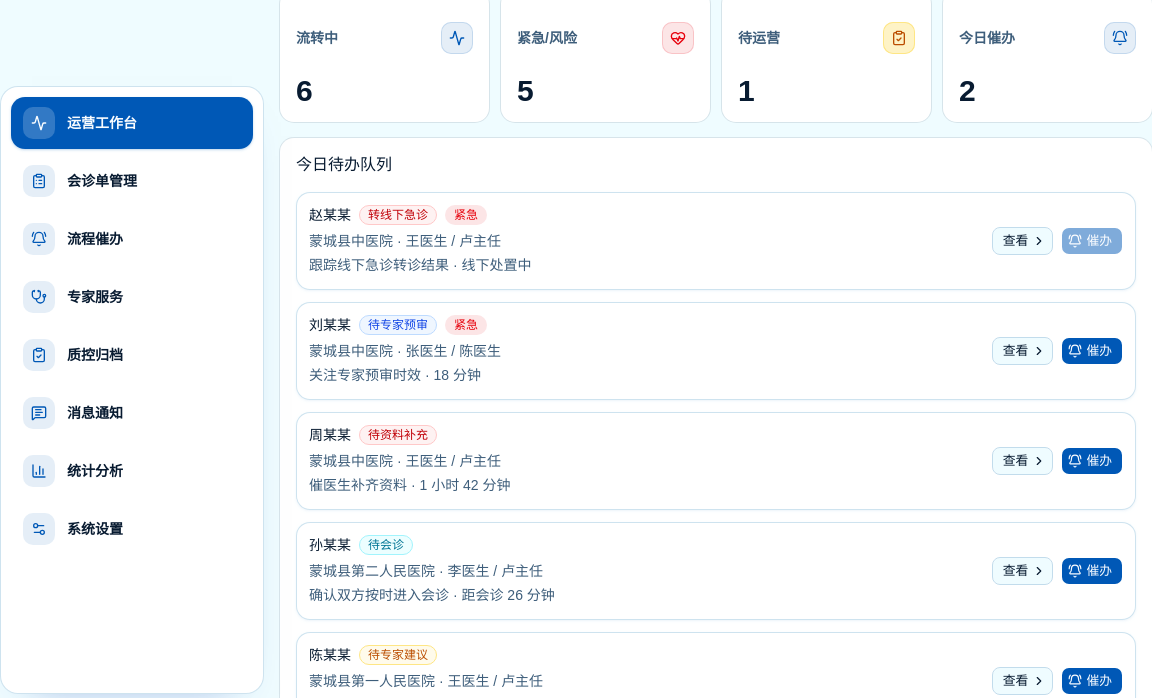
Scenario: AdminView navigation › shows emergency handoff handling for offline emergency cases
Click the button "会诊单管理" at (132, 181), box [11,155,253,207]
(page scrolled)
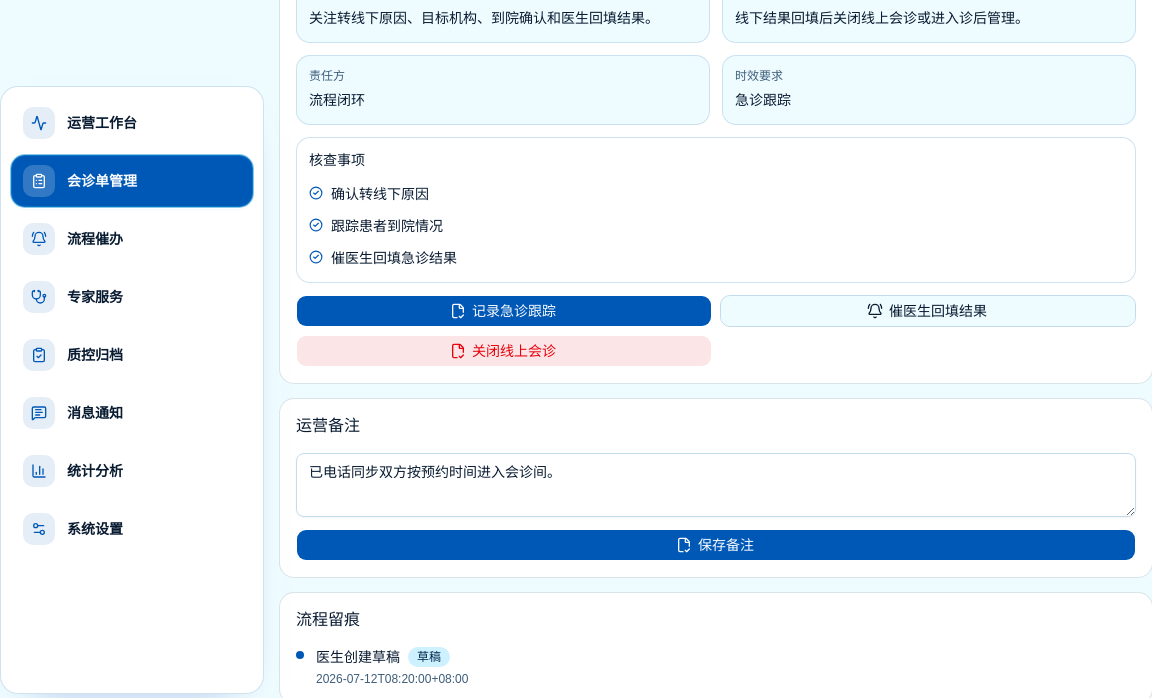
Now the button "记录急诊跟踪" is shown, box [296,294,712,326]
Now the button "催医生回填结果" is shown, box [720,294,1136,326]
Now the button "关闭线上会诊" is shown, box [296,334,712,366]
